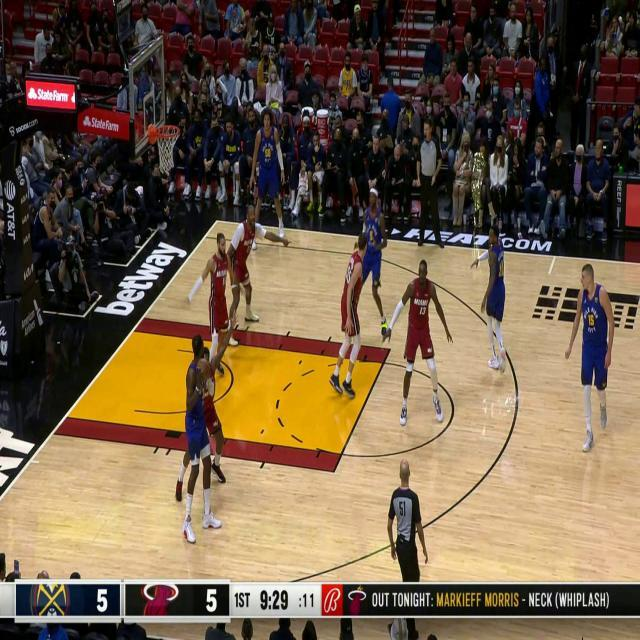rim: (196, 358, 210, 383)
